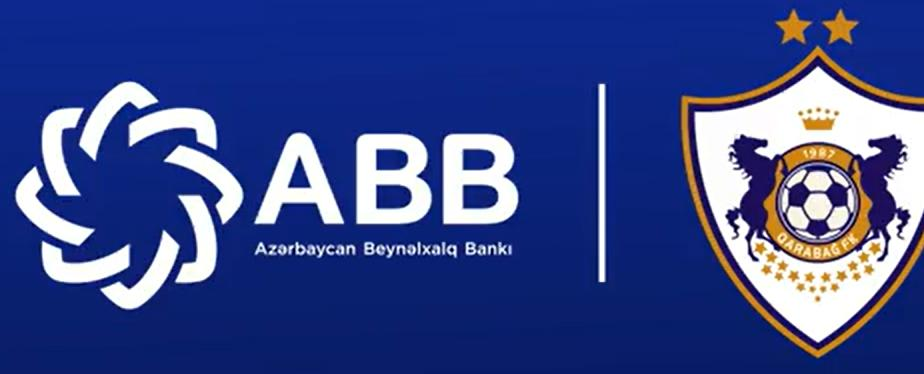ABB: (13, 77, 248, 312)
